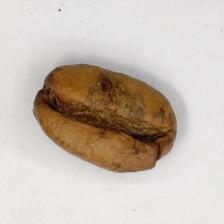NG: (52, 65, 171, 149)
